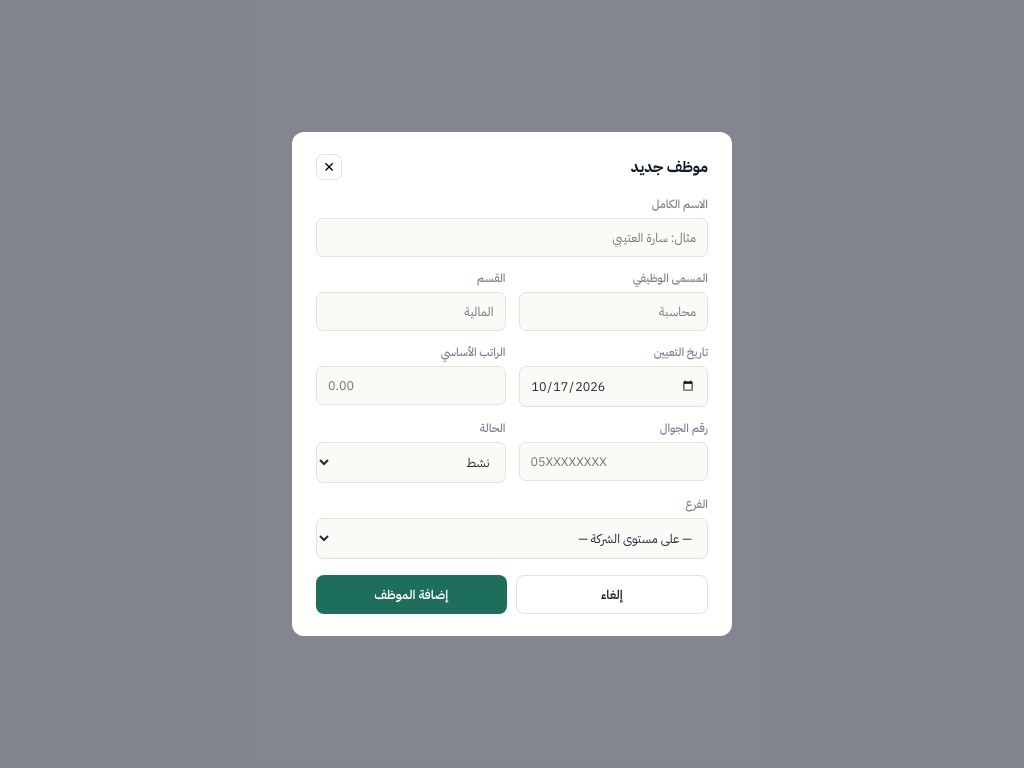
Test case: Employee window: the salary › a salary that is not a positive number is refused before anything is sent
Type "موظّفٌ جديد" into the field with placeholder "مثال: سارة العتيبي". click: (512, 238)
box: [316,218,708,257]
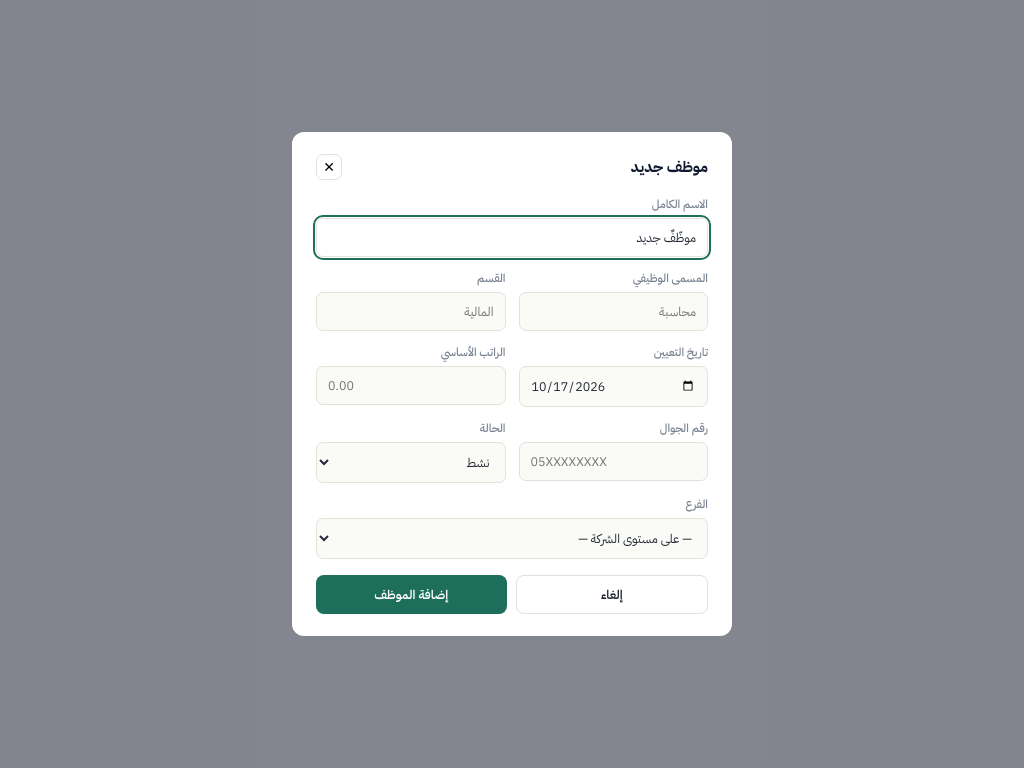
Type "-5" into the field labelled "الراتب الأساسي". click: (411, 386)
box: [316,366,506,405]
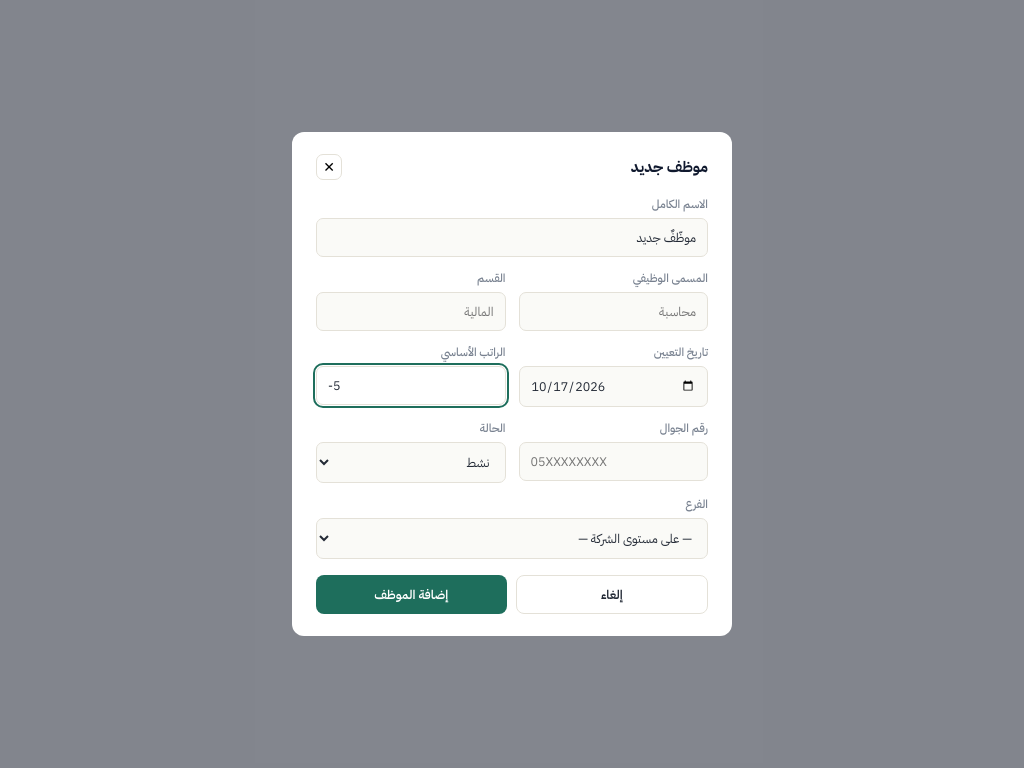
Click the button "إضافة الموظف". click: (411, 594)
box: [316,575,506,614]
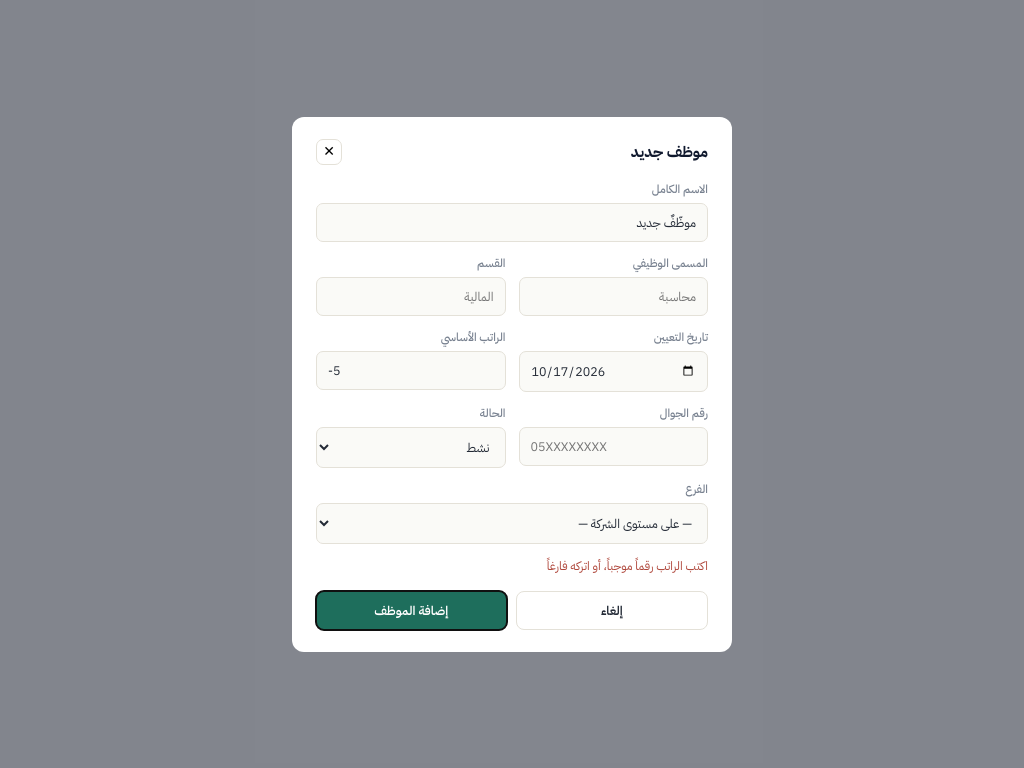
expect the text "اكتب الراتب رقماً موجباً، أو اتركه فارغاً" is shown: met, box [547,556,708,574]
